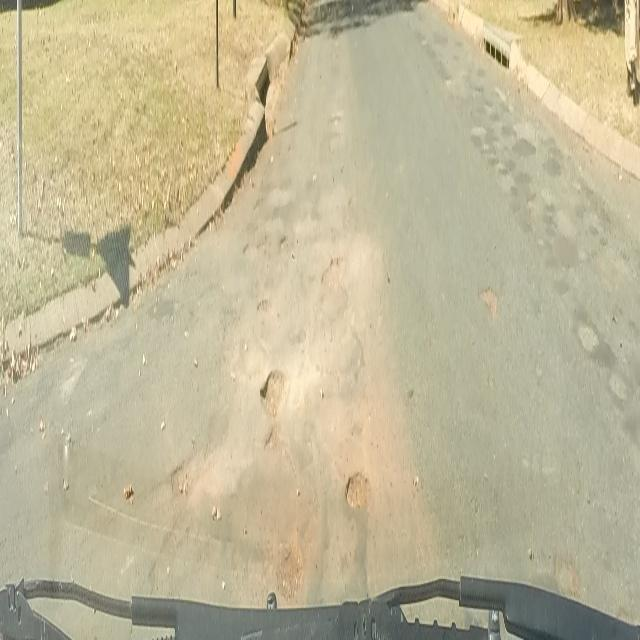pothole: (258, 364, 286, 422), (344, 464, 369, 512), (170, 459, 194, 502), (320, 246, 342, 288), (479, 284, 499, 320)
